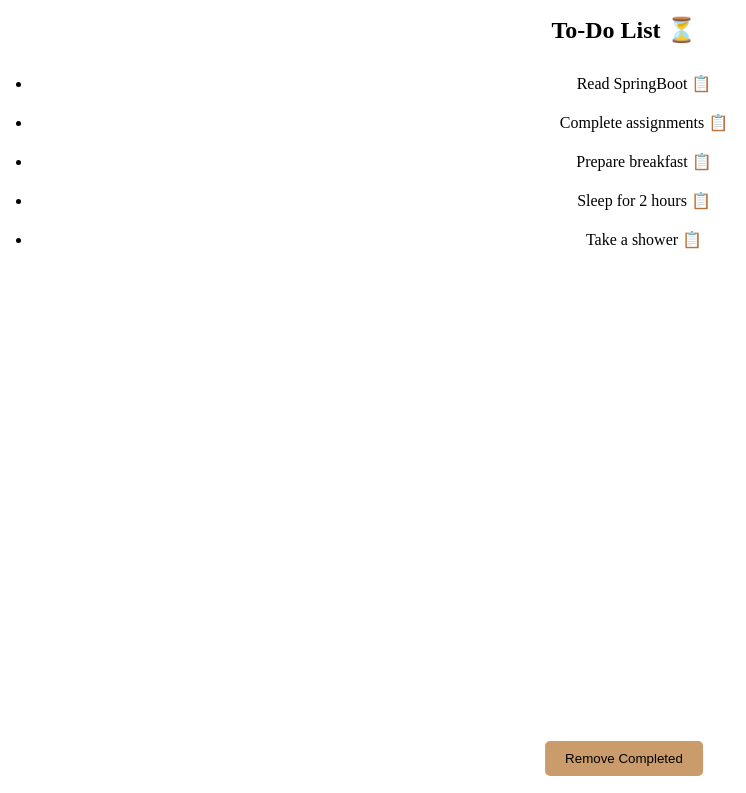
Test: ToDoList Component › should display "Nothing to do buddy! Sleep" message when all tasks are removed
Step 1. Click the list item "Read SpringBoot 📋" → (644, 83), box [577, 75, 711, 92]
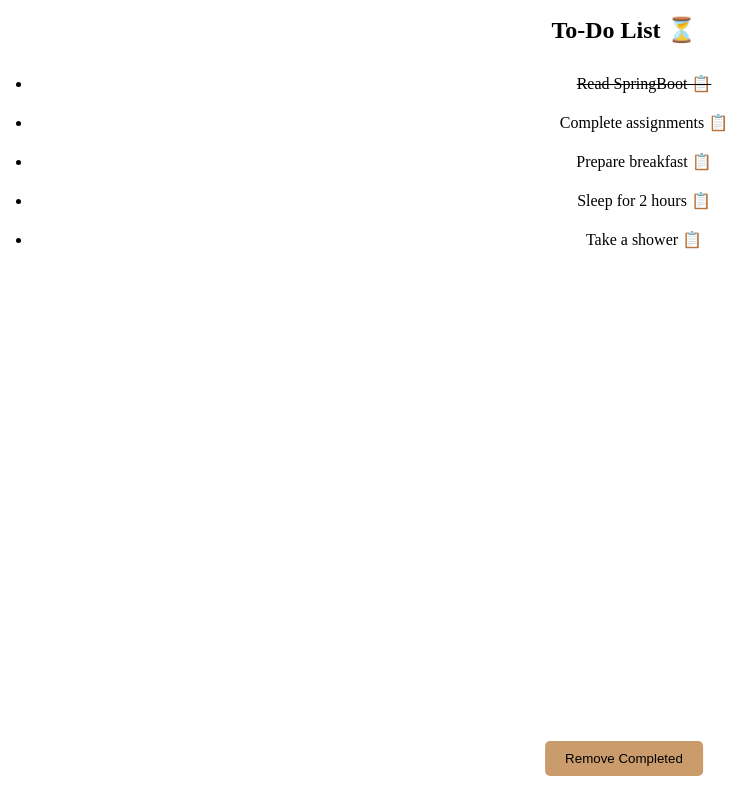
Step 2. Click the list item "Complete assignments 📋" → (644, 122), box [560, 114, 728, 131]
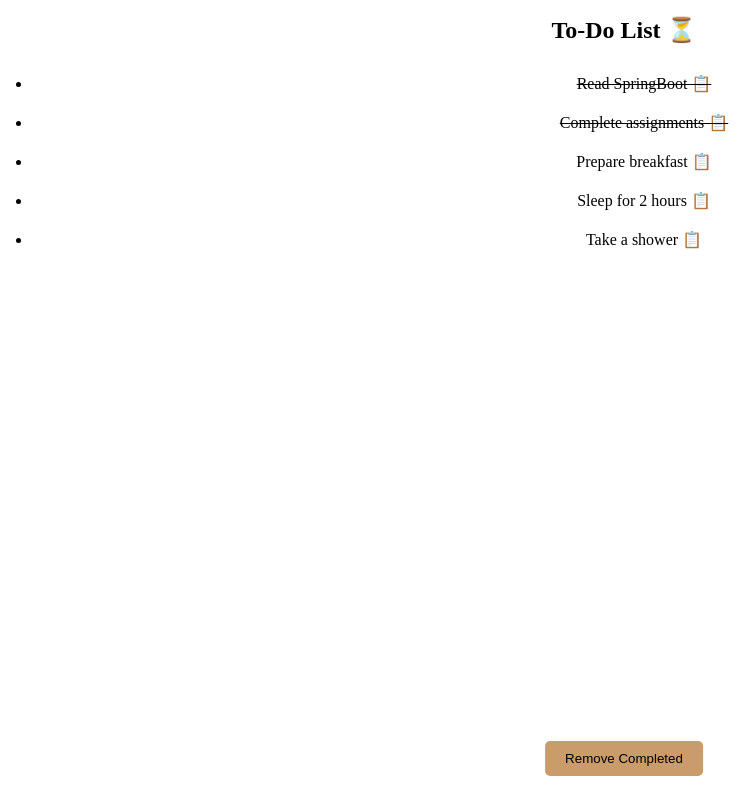
Step 3. Click the list item "Prepare breakfast 📋" → (644, 161), box [576, 153, 712, 170]
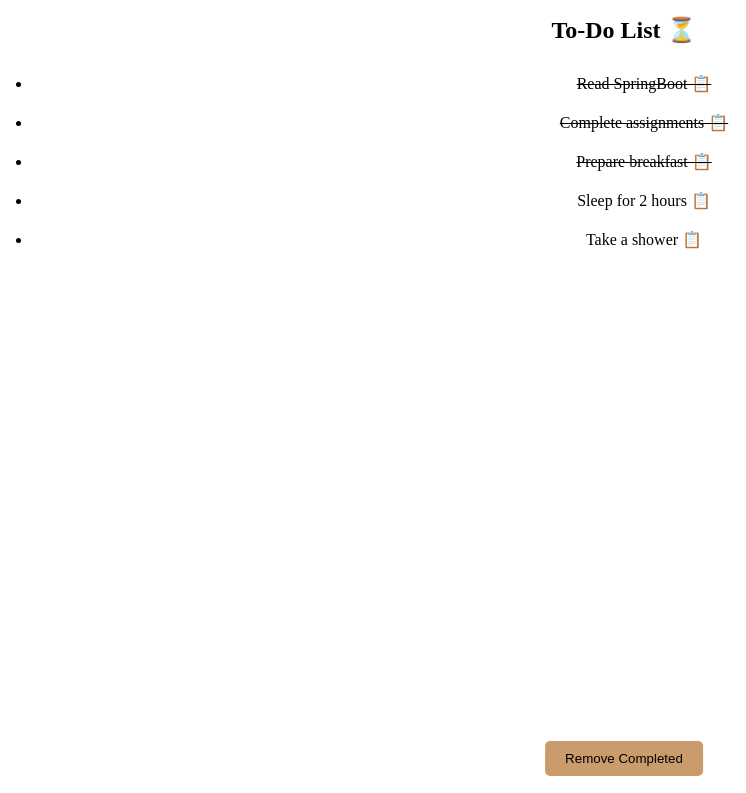
Step 4. Click the list item "Sleep for 2 hours 📋" → (644, 200), box [577, 192, 711, 209]
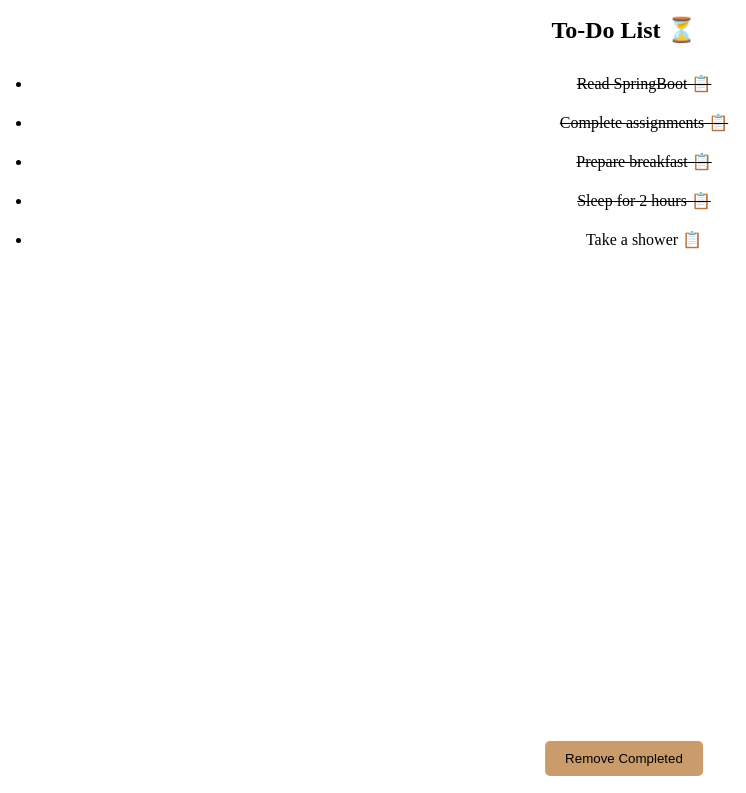
Step 5. Click the list item "Take a shower 📋" → (644, 239), box [586, 231, 702, 248]
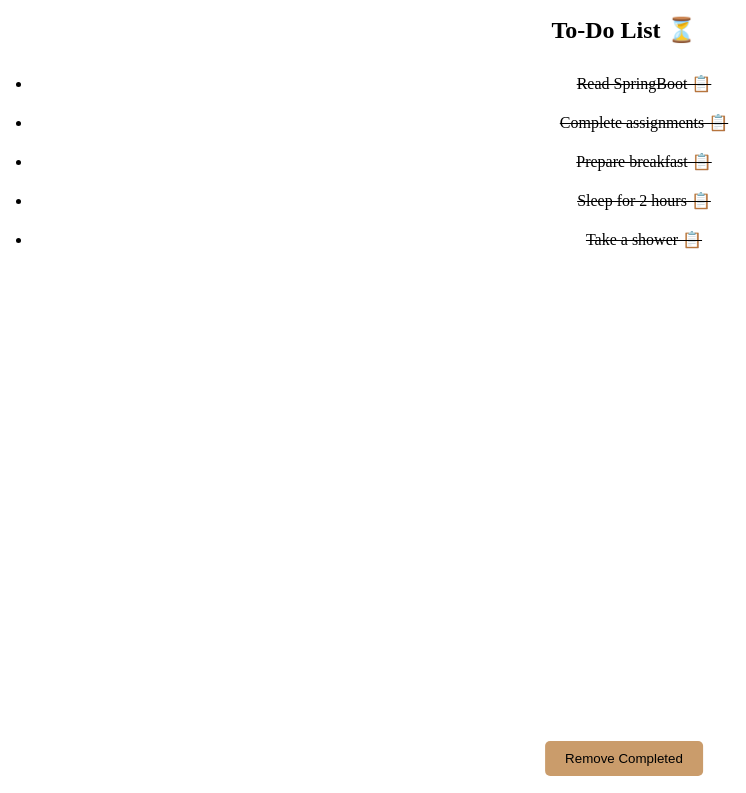
Step 6. Click the button "Remove Completed" → (624, 758), box [545, 741, 703, 776]
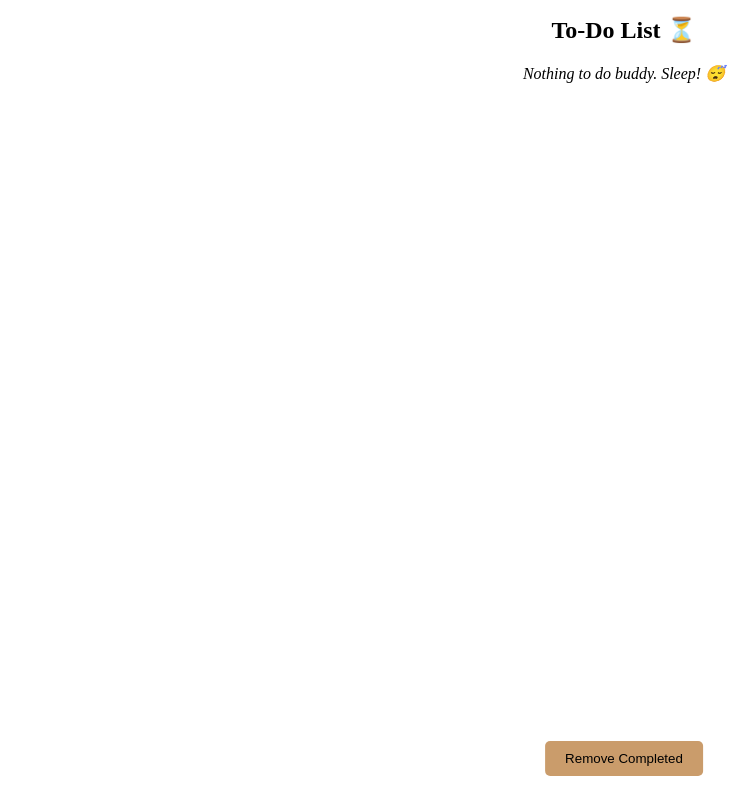
Expected: the text "Nothing to do buddy. Sleep! 😴" is shown, [523, 65, 725, 82]
